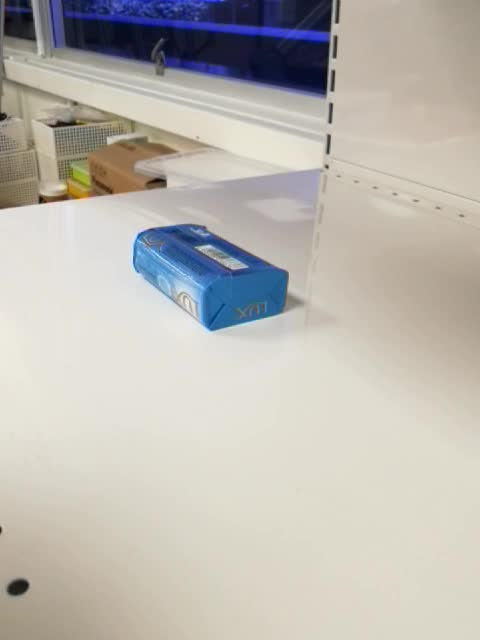soap: (130, 223, 290, 333)
